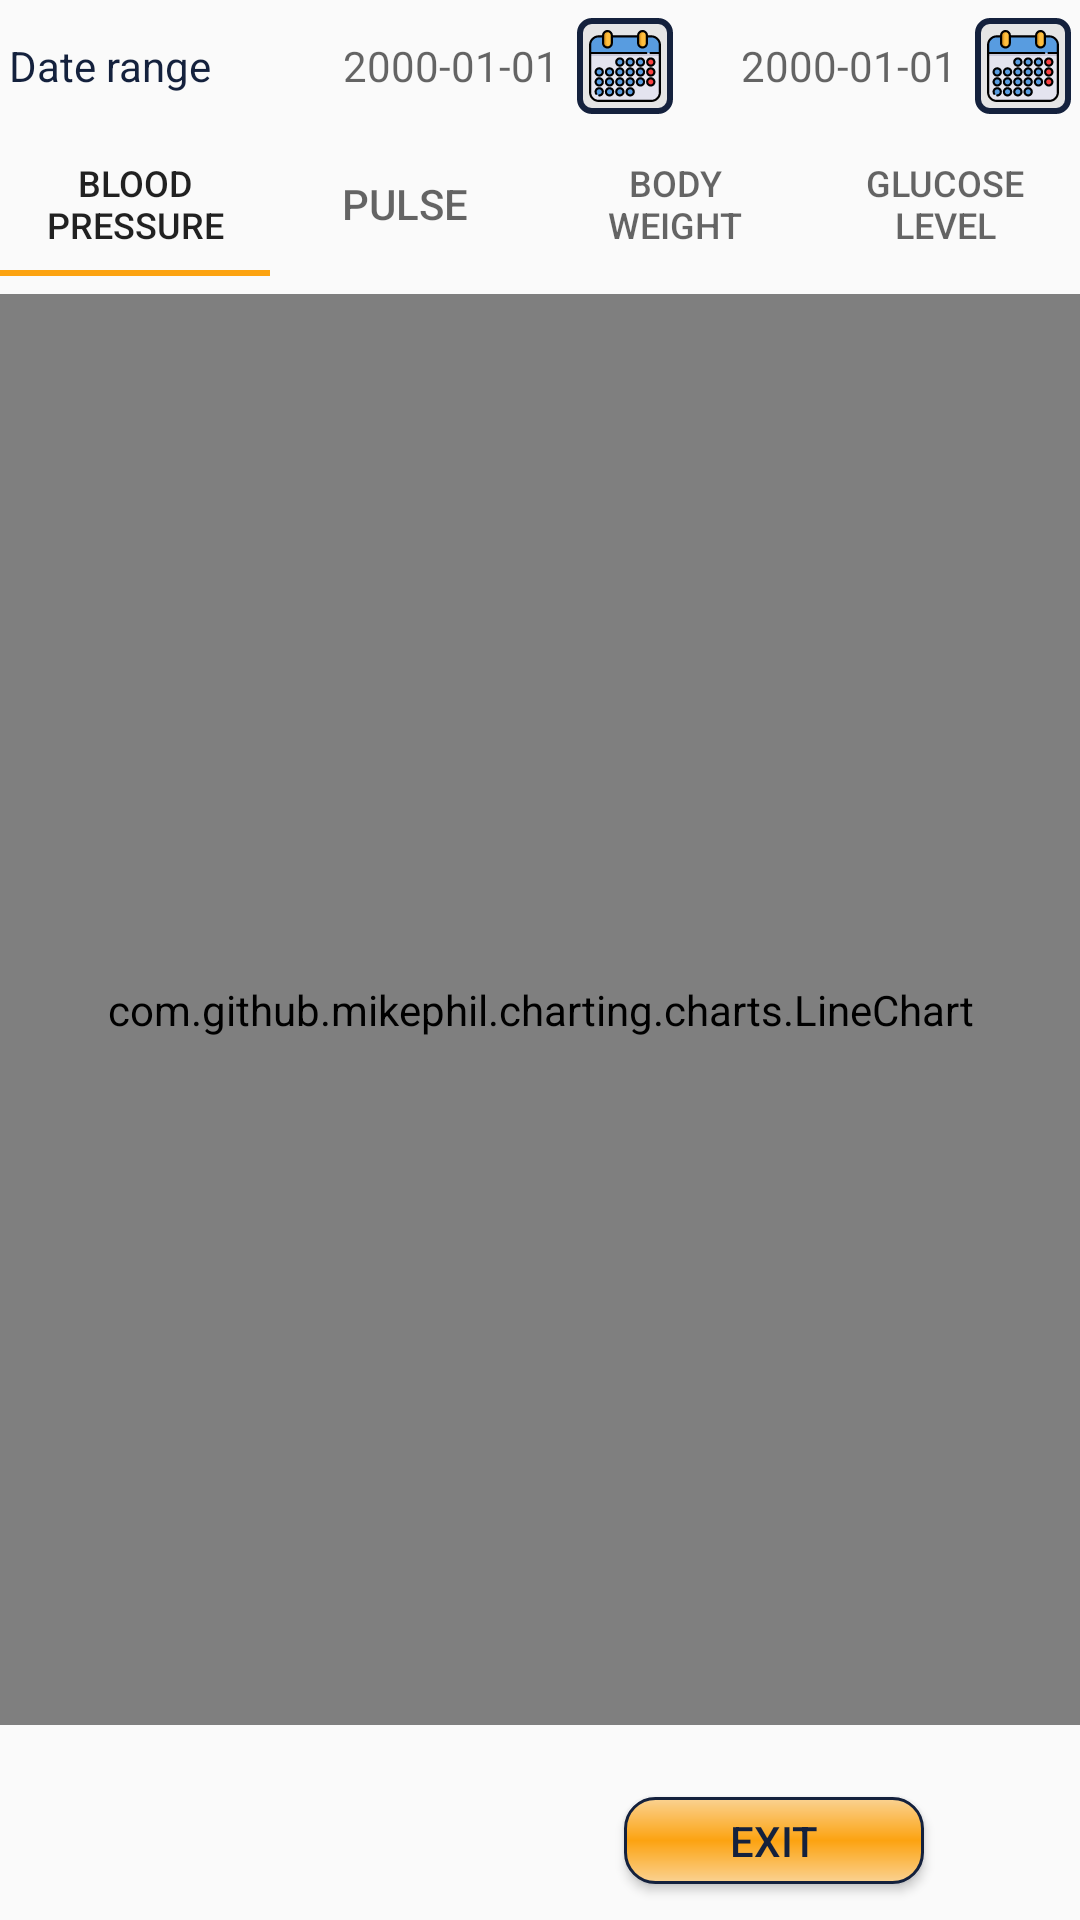

Screen size 1080*1920. Icon name, then its box in pixels as [x1,y1,x2,y2]:
calendar: [577,18,673,114], [975,18,1071,114]
